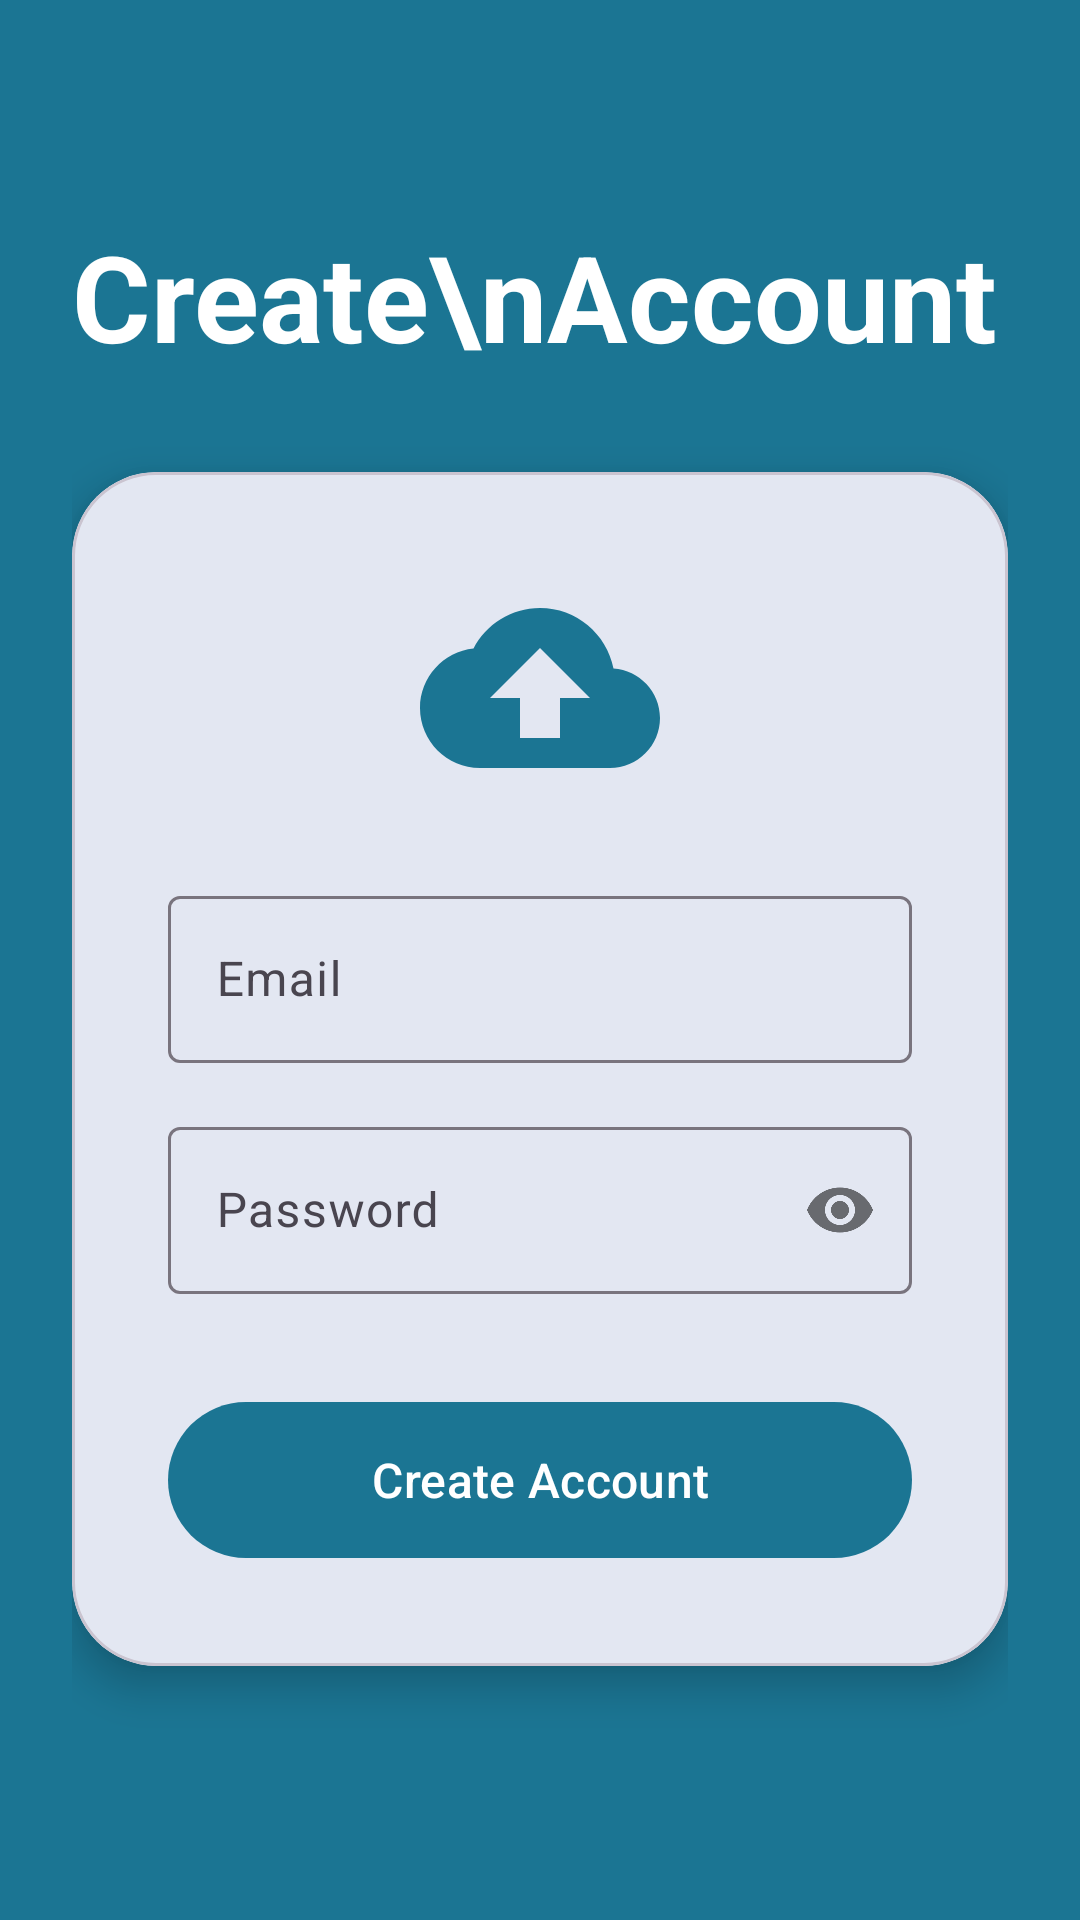

Where to tap for icons on this 1080 × 1920 app screen, as point (x, y):
cloud upload: point (540, 688)
